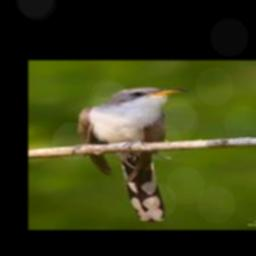Cuckoo: (77, 87, 190, 222)
